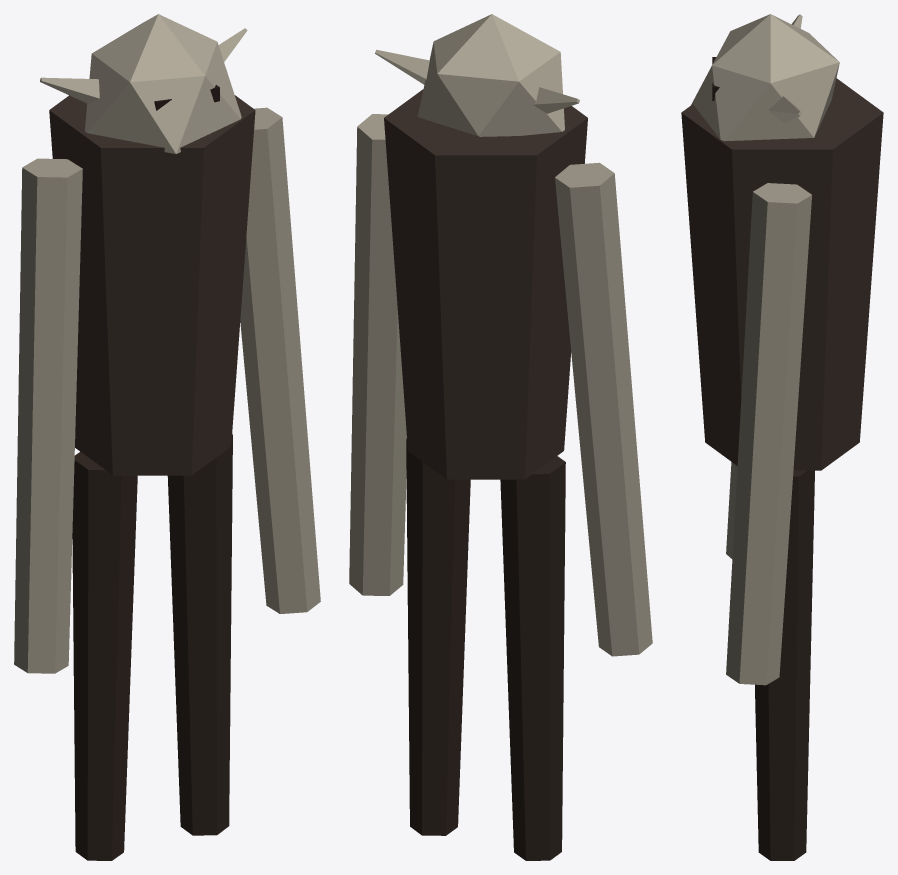
The model's file is bandit.glb.
3 renders of one model, left to right at view 1: azimuth 30°, elevation 25°; view 2: azimuth 150°, elevation 25°; view 3: azimuth 270°, elevation 25°, orthographic. The views are drawn at different scales.
Visible parts, largest first — view 1: bandit; view 2: bandit; view 3: bandit.
Part boxes in pixels (x1,y1,x2,y2): bandit: (14,14,320,860); bandit: (349,14,652,860); bandit: (681,14,883,860).
Bounding box in the file's own units: 0.5578 × 1.51 × 0.34.
1 material, 1 textured.
